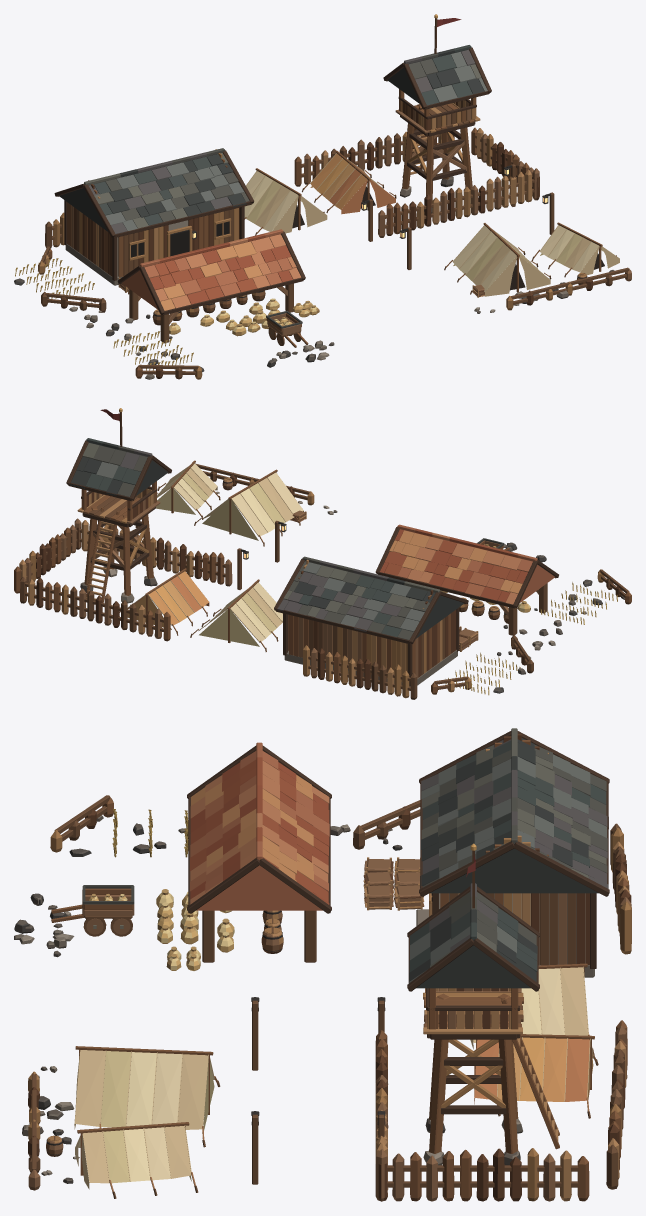
File: marches-camp.glb
3 renders of one model, top to bottom at view 1: azimuth 30°, elevation 25°; view 2: azimuth 150°, elevation 25°; view 3: azimuth 270°, elevation 25°, orthographic. The views are drawn at different scales.
Parts seen in each view (by area): view 1: 01 • Grain granary and lean-to, 02 • Watchtower and gate stockade, 03 • Canvas quarters, 04 • Supply court and grain stubble; view 2: 01 • Grain granary and lean-to, 02 • Watchtower and gate stockade, 03 • Canvas quarters, 04 • Supply court and grain stubble; view 3: 01 • Grain granary and lean-to, 02 • Watchtower and gate stockade, 03 • Canvas quarters, 04 • Supply court and grain stubble.
Boxes of the visible parts, x1,y1,x2,y2 form: 01 • Grain granary and lean-to: (54, 148, 305, 343); 02 • Watchtower and gate stockade: (45, 14, 554, 269); 03 • Canvas quarters: (244, 150, 619, 297); 04 • Supply court and grain stubble: (14, 246, 631, 379); 01 • Grain granary and lean-to: (274, 524, 558, 686); 02 • Watchtower and gate stockade: (14, 408, 417, 699); 03 • Canvas quarters: (119, 460, 306, 651); 04 • Supply court and grain stubble: (196, 464, 631, 695); 01 • Grain granary and lean-to: (156, 728, 609, 977); 02 • Watchtower and gate stockade: (251, 823, 631, 1201); 03 • Canvas quarters: (46, 963, 598, 1198); 04 • Supply court and grain stubble: (14, 795, 420, 1190).
Bounding box in the file's own units: 49.64 × 17.96 × 33.33.
3 materials, 2 textured.
